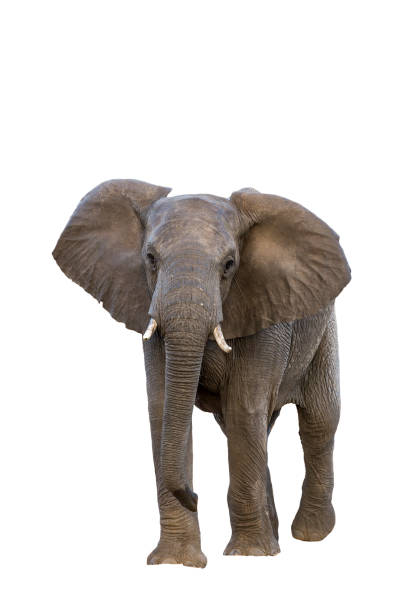africanelephant: (106, 189, 282, 372)
